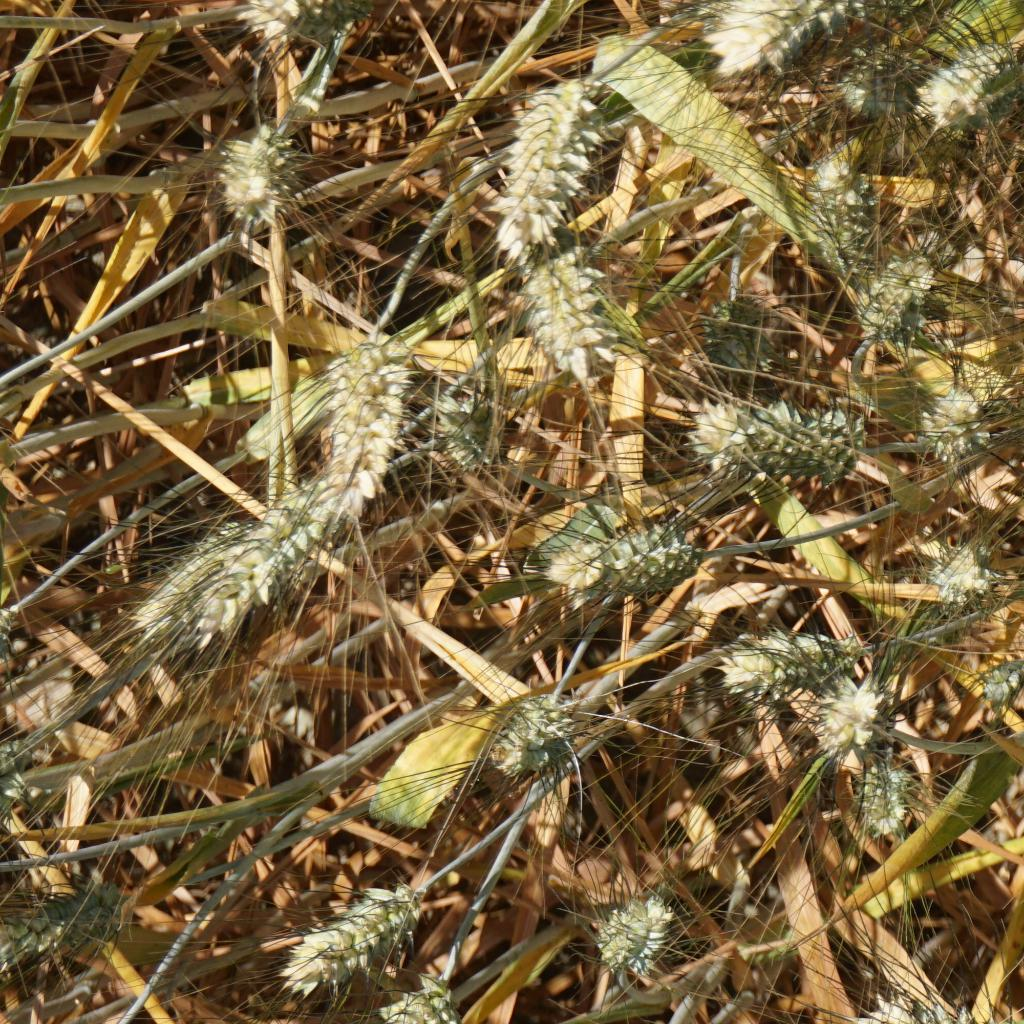0-0: (176, 458, 386, 643), (482, 60, 610, 273), (316, 330, 421, 510), (140, 534, 266, 649), (521, 248, 606, 391), (212, 129, 323, 232), (5, 878, 124, 971), (747, 403, 871, 486), (288, 891, 417, 968), (590, 882, 679, 990), (720, 616, 866, 681), (802, 146, 879, 261), (850, 253, 934, 353), (906, 40, 1024, 110), (522, 512, 686, 560), (721, 0, 879, 44), (246, 0, 395, 44), (836, 988, 1016, 1024), (707, 295, 781, 382), (830, 45, 911, 124), (923, 388, 998, 473), (437, 389, 507, 480), (588, 537, 701, 593), (488, 695, 571, 763), (679, 400, 752, 476), (849, 754, 911, 840), (813, 679, 878, 757), (929, 544, 1001, 604), (399, 968, 451, 1024), (975, 659, 1024, 708)
